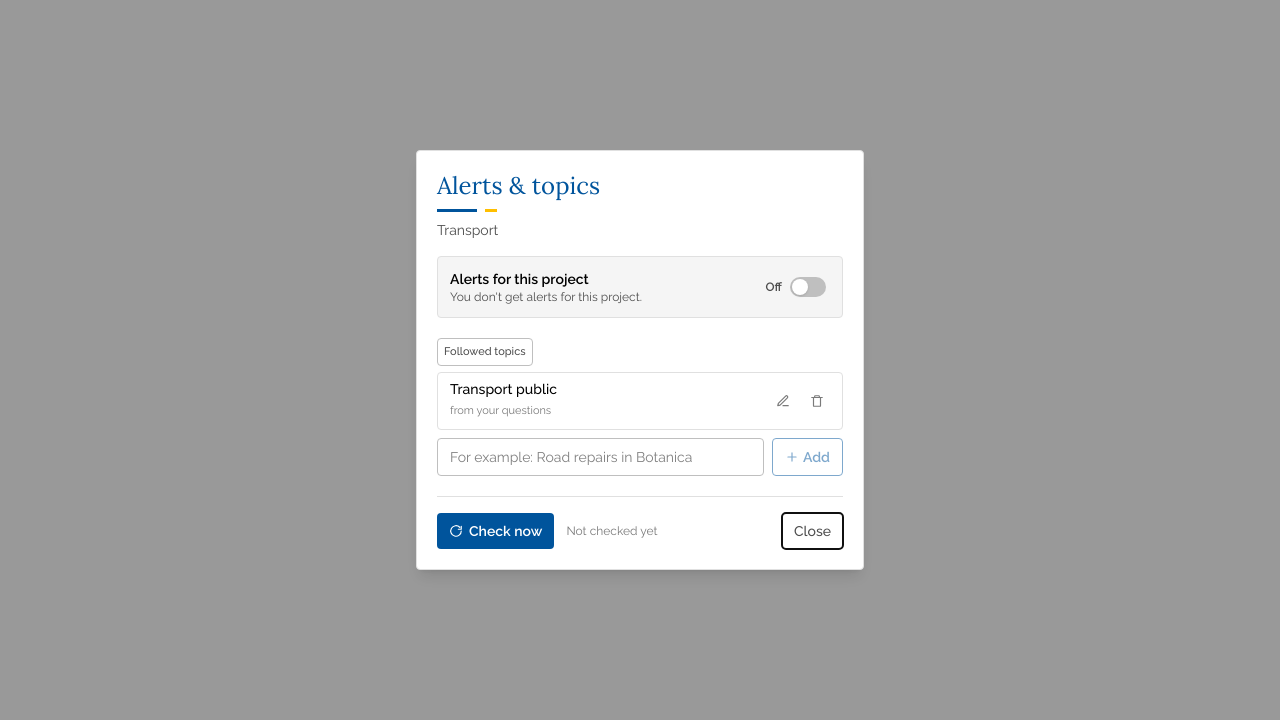
Test: AlertsDialog › checks now and reports the result
expect the text "Not checked yet" is shown: met, box [566, 524, 658, 538]
Click the button "Check now". click: (496, 531)
box: [437, 513, 554, 549]
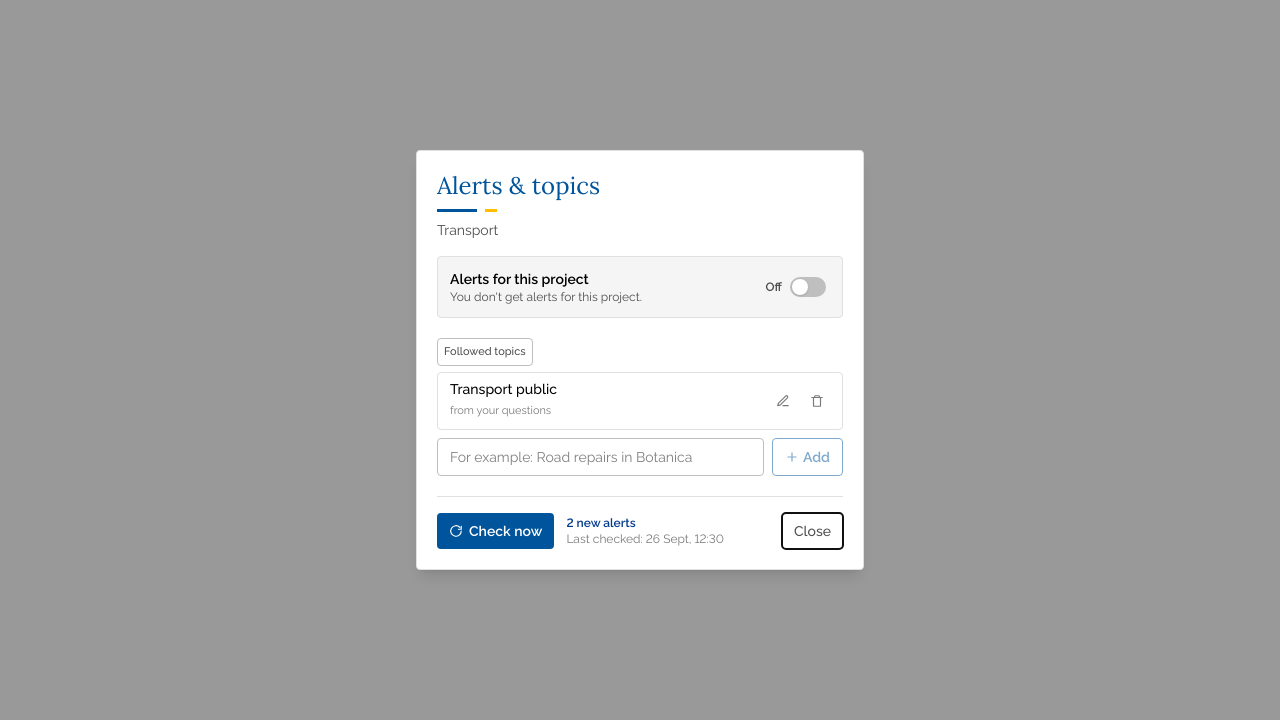
expect the text "Last checked: 26 Sept, 12:30" is shown: met, box [566, 532, 724, 546]
Click the button "Check now". click: (496, 531)
box: [437, 513, 554, 549]
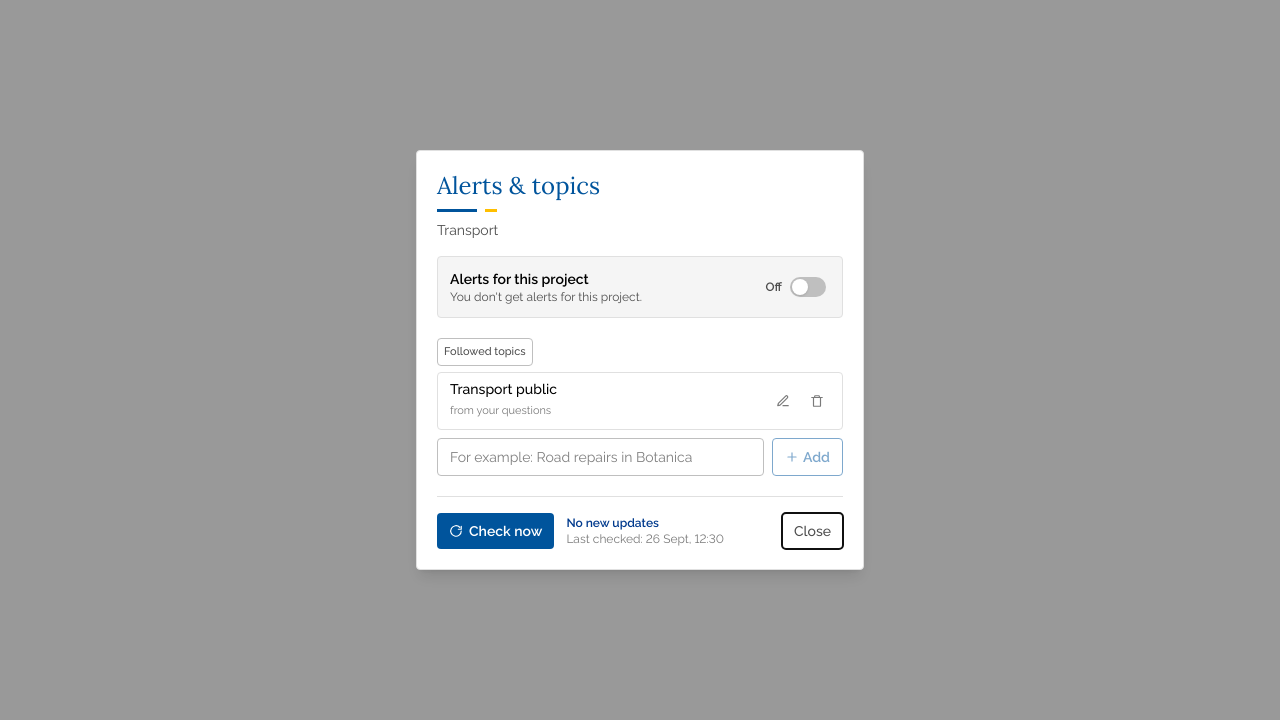
expect the text "No new updates" is shown: met, box [566, 516, 659, 530]
